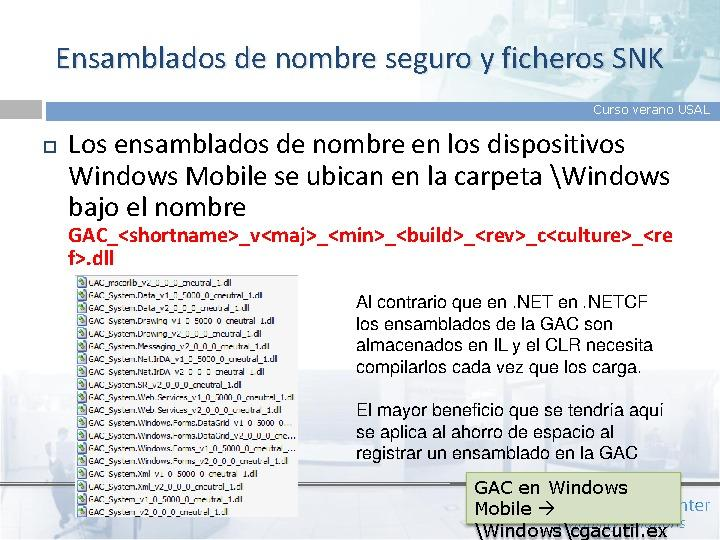paragraph: (40, 127, 720, 539)
title: (50, 32, 681, 84)
